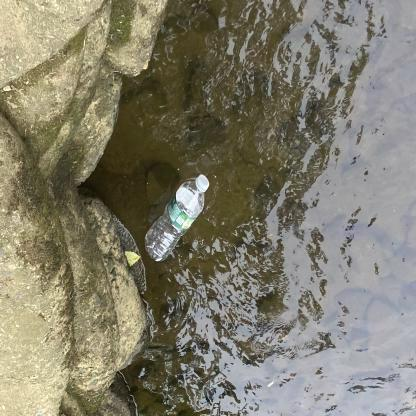Plastic: (142, 166, 214, 264)
